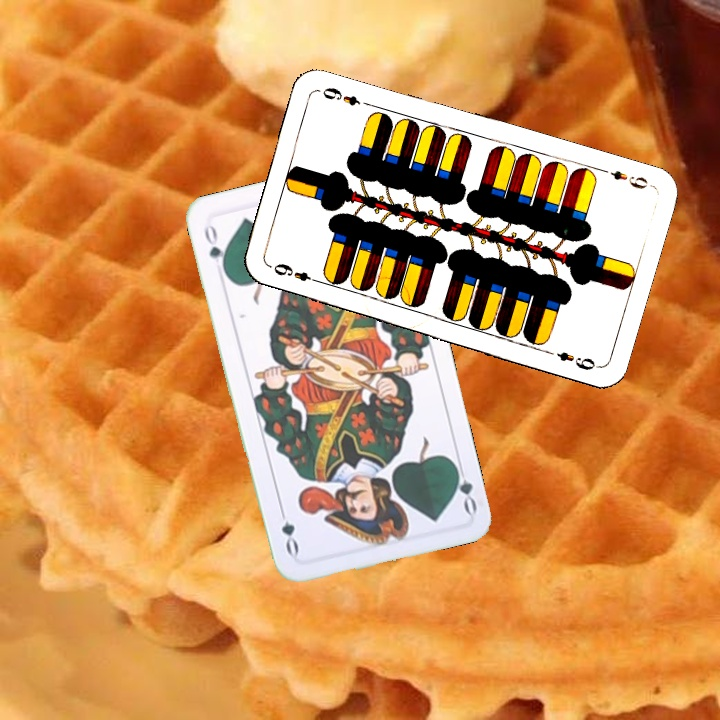E9: (596, 164, 654, 192), (265, 259, 323, 286)
GO: (449, 457, 480, 516), (200, 220, 229, 277)
